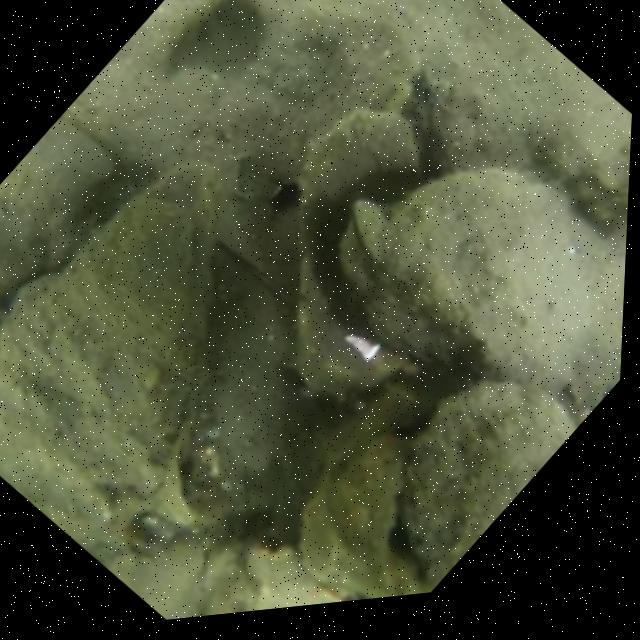Oyster-Closed: (0, 163, 209, 537)
Oyster-Indeterminate: (355, 0, 632, 226), (344, 169, 611, 390), (298, 111, 421, 397), (401, 379, 571, 571), (300, 400, 421, 600), (0, 120, 115, 319), (205, 552, 335, 616), (113, 541, 207, 620), (122, 0, 231, 54)
